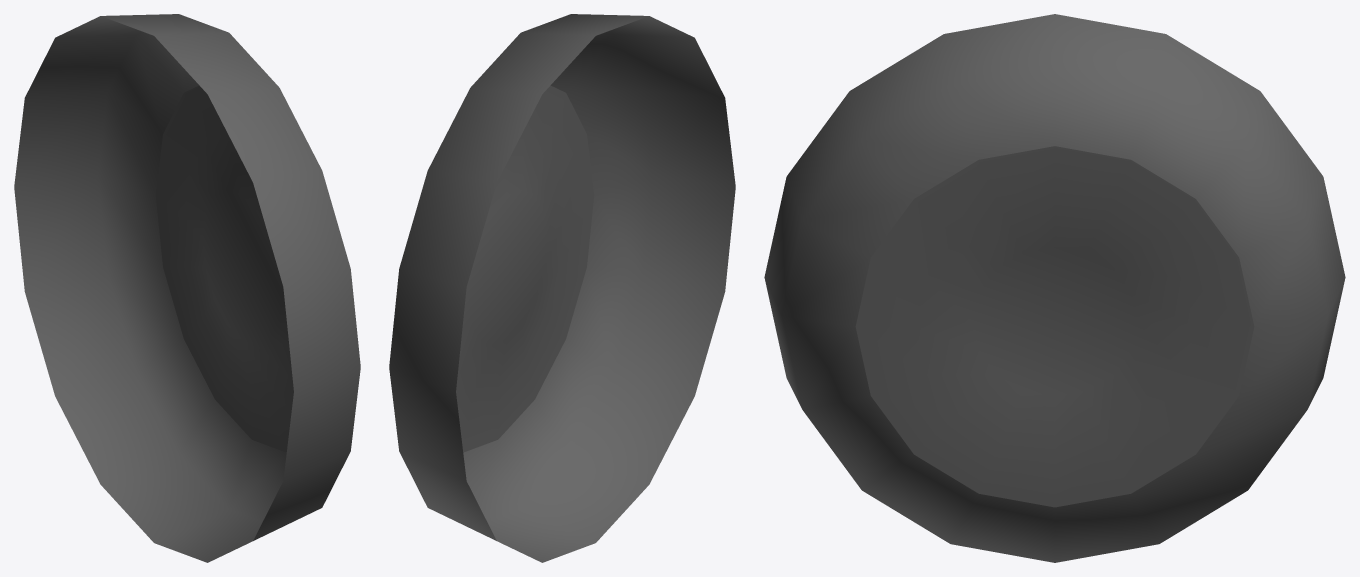
Rendered from SM_cuve_bouton_low.fbx.
The picture shows the model from 3 angles, left to right: view 1: azimuth 30°, elevation 25°; view 2: azimuth 150°, elevation 25°; view 3: azimuth 270°, elevation 25°; orthographic projection. The views are drawn at different scales.
Visible parts, largest first — view 1: SM_cuve_bouton_low; view 2: SM_cuve_bouton_low; view 3: SM_cuve_bouton_low.
Boxes of the visible parts, box(x1,y1,x2,y2) form: SM_cuve_bouton_low: box(14, 14, 360, 562); SM_cuve_bouton_low: box(389, 14, 735, 562); SM_cuve_bouton_low: box(764, 14, 1345, 562).
Size of the model in its own units: 3.43 by 17 by 17.
Materials: 1 (1 with a texture image).
